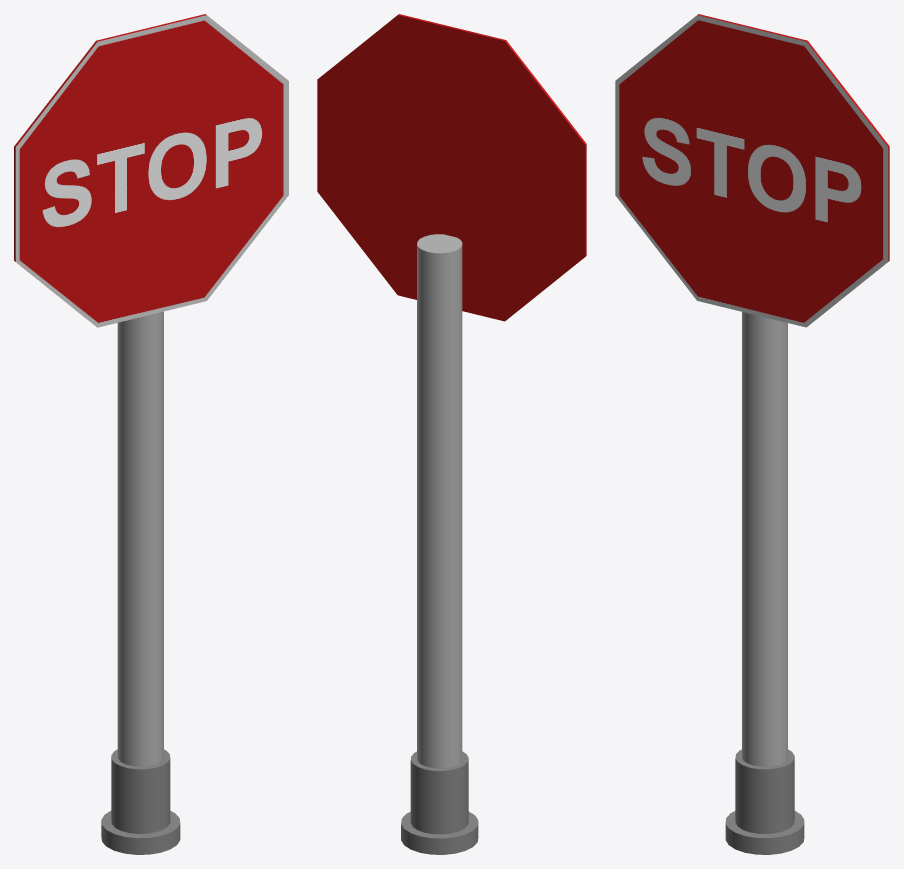
File: Stop_Sign.fbx
The picture shows the model from 3 angles, left to right: view 1: azimuth 30°, elevation 25°; view 2: azimuth 150°, elevation 25°; view 3: azimuth 330°, elevation 25°; orthographic projection. The views are drawn at different scales.
Parts seen in each view (by area): view 1: polySurface46; view 2: polySurface46; view 3: polySurface46.
Boxes of the visible parts, left/top/right/bottom form: polySurface46: left=14, top=14, right=288, bottom=854; polySurface46: left=317, top=14, right=586, bottom=854; polySurface46: left=615, top=14, right=889, bottom=854.
Size of the model in its own units: 4.69 by 13.43 by 1.18.
